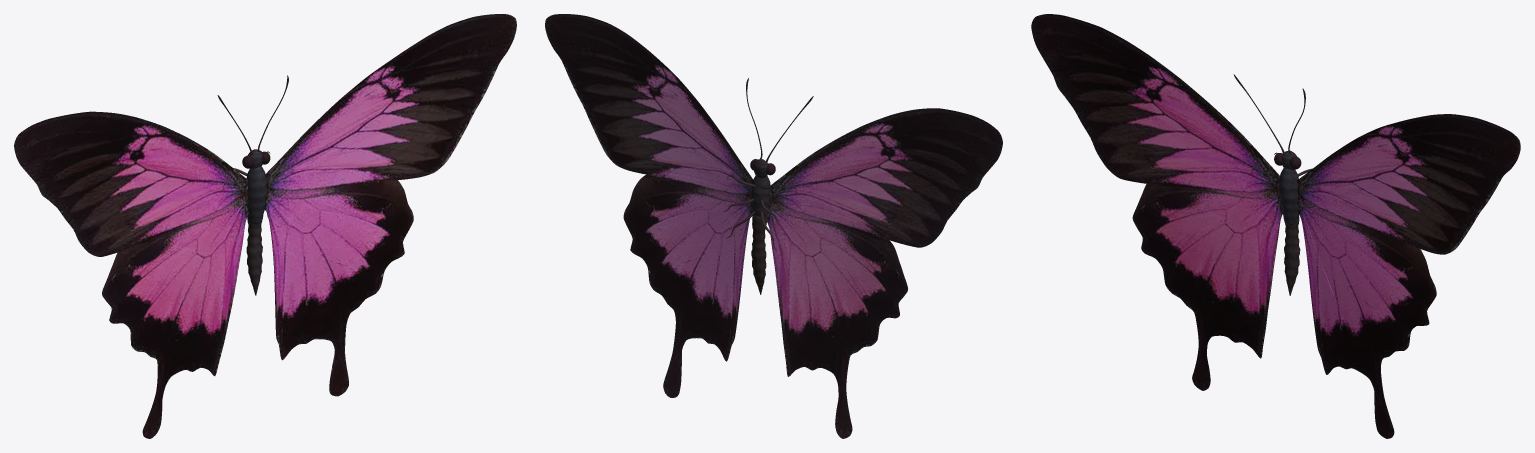
File: farfalla.glb
3 views of the same model, side by side, from view 1: azimuth 30°, elevation 25°; view 2: azimuth 150°, elevation 25°; view 3: azimuth 330°, elevation 25° (orthographic). The views are drawn at different scales.
Parts seen in each view (by area): view 1: Ala anteriore destra, Ala anteriore sinistra, Ala posteriore destra, Ala posteriore sinistra, Torace, Addome; view 2: Ala anteriore sinistra, Ala posteriore sinistra, Ala anteriore destra, Ala posteriore destra, Addome, Torace; view 3: Ala anteriore sinistra, Ala anteriore destra, Ala posteriore sinistra, Ala posteriore destra, Torace, Addome.
Part boxes in pixels (<box>): Ala anteriore destra: <box>265,14,516,199</box>; Ala anteriore sinistra: <box>14,111,248,256</box>; Ala posteriore destra: <box>264,180,413,396</box>; Ala posteriore sinistra: <box>102,204,248,438</box>; Torace: <box>246,166,267,224</box>; Addome: <box>246,214,262,295</box>; Ala anteriore sinistra: <box>769,108,1002,247</box>; Ala posteriore sinistra: <box>766,198,907,438</box>; Ala anteriore destra: <box>545,14,753,193</box>; Ala posteriore destra: <box>623,171,752,397</box>; Addome: <box>751,215,766,294</box>; Torace: <box>751,175,770,224</box>; Ala anteriore sinistra: <box>1031,14,1279,199</box>; Ala anteriore destra: <box>1297,114,1520,254</box>; Ala posteriore sinistra: <box>1132,184,1282,390</box>; Ala posteriore destra: <box>1298,205,1436,438</box>; Torace: <box>1278,168,1299,225</box>; Addome: <box>1284,214,1300,295</box>.
Bounding box in the file's own units: 0.1195 × 0.0844 × 0.0109.
Materials: 6 (2 with a texture image).
